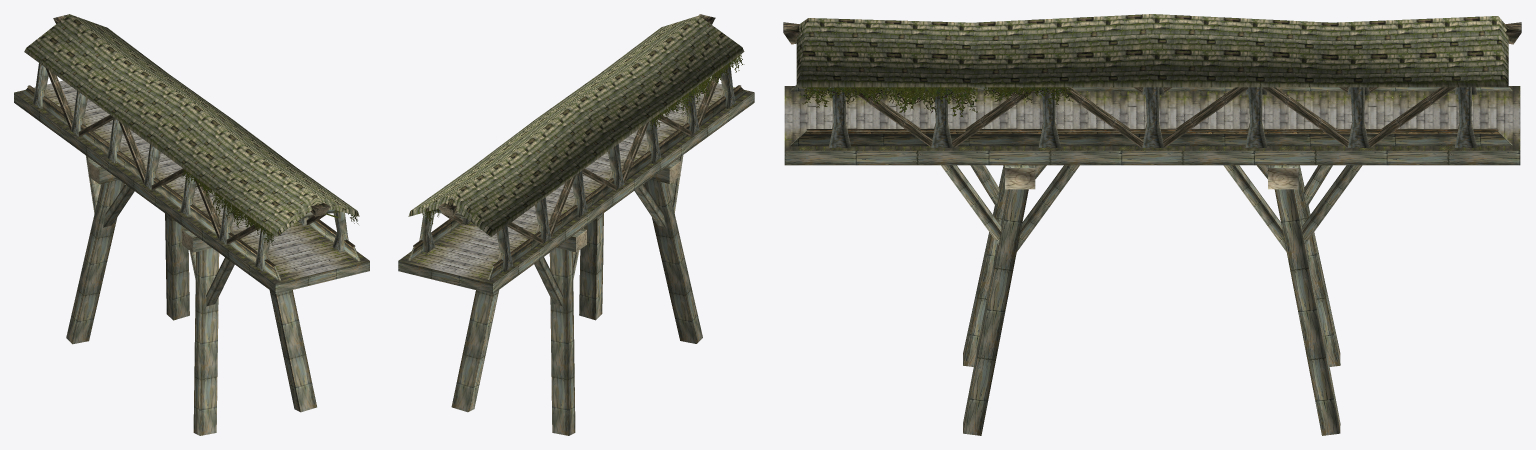
Rendered from duskwoodcoveredbridge.obj.
The picture shows the model from 3 angles, left to right: view 1: azimuth 30°, elevation 25°; view 2: azimuth 150°, elevation 25°; view 3: azimuth 270°, elevation 25°; orthographic projection. The views are drawn at different scales.
Visible parts, largest first — view 1: Bridge; view 2: Bridge; view 3: Bridge.
Boxes of the visible parts, x1,y1,x2,y2 form: Bridge: [14, 14, 369, 435]; Bridge: [398, 14, 754, 435]; Bridge: [783, 14, 1521, 435].
Size of the model in its own units: 16.55 by 36.73 by 64.09.
6 materials, 6 textured.
